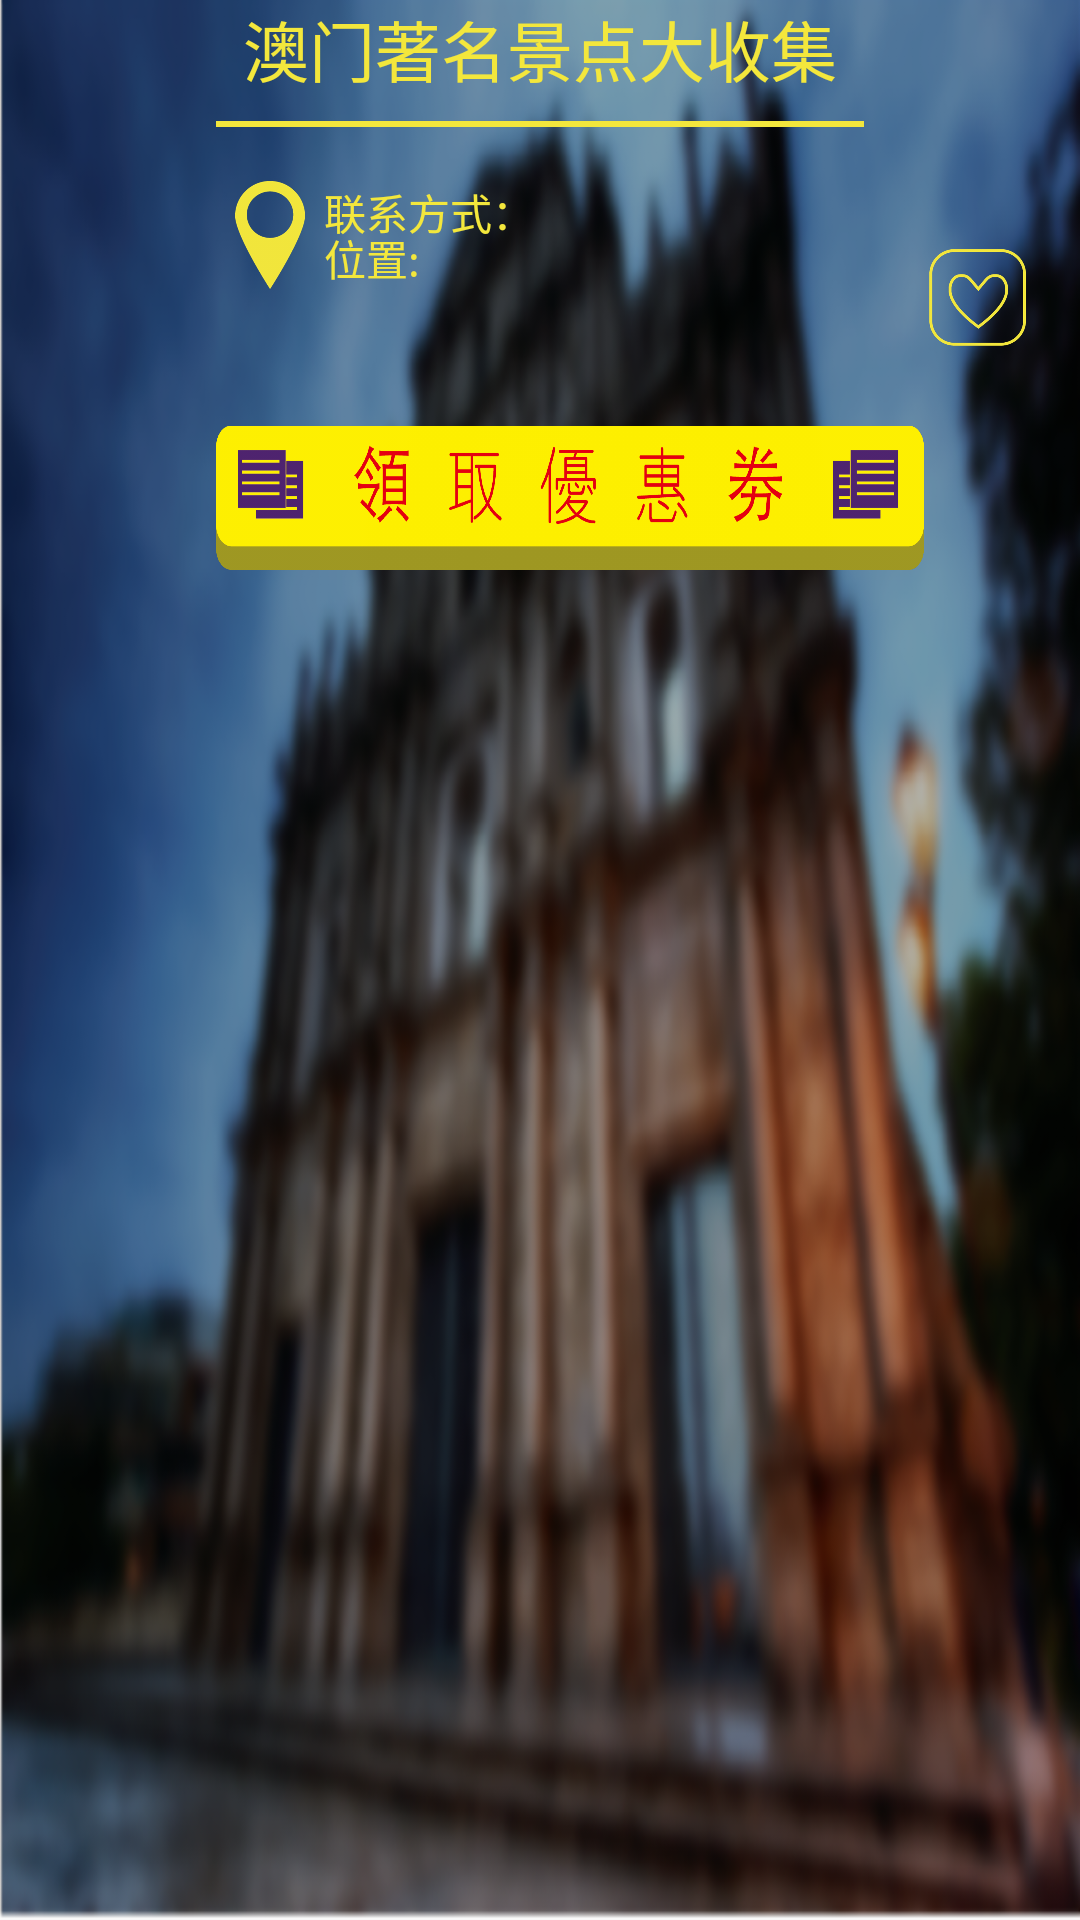

Screen size 1080x1920. Icon name, then its center in pixels as point (x, y):
collect: point (978, 297)
